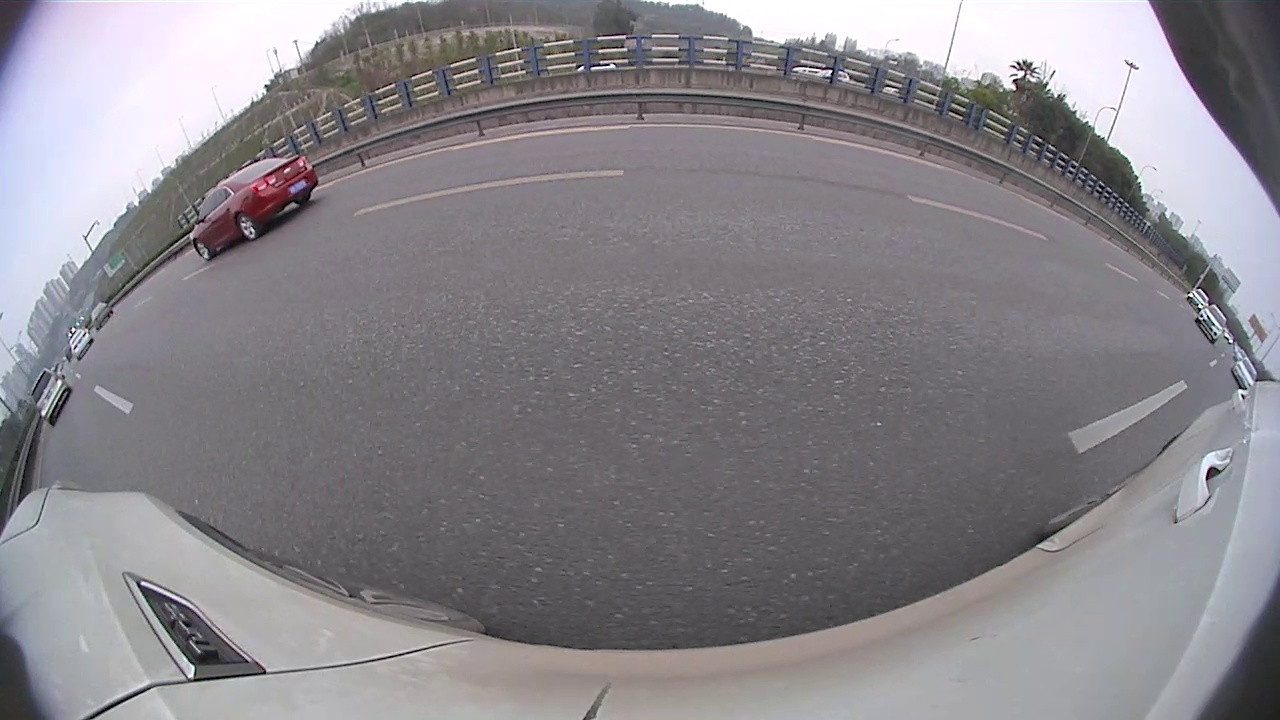bus: (1083, 156, 1279, 403)
car: (21, 151, 443, 446), (822, 147, 1101, 299), (1044, 187, 1191, 334), (594, 122, 744, 234), (464, 155, 563, 215), (770, 158, 821, 199), (551, 154, 595, 189)
front: (405, 210, 444, 261), (826, 195, 851, 231), (761, 178, 768, 189)
rear: (156, 290, 261, 407), (944, 226, 996, 292), (1091, 267, 1136, 322), (534, 183, 544, 209), (783, 179, 790, 194)
